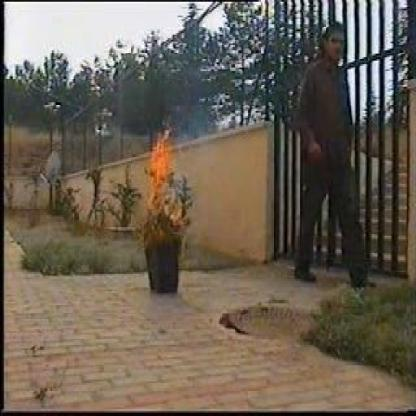-: (177, 100, 200, 160)
foggia-v2-map80-epoch100 - v1 4323: (146, 121, 172, 188)
